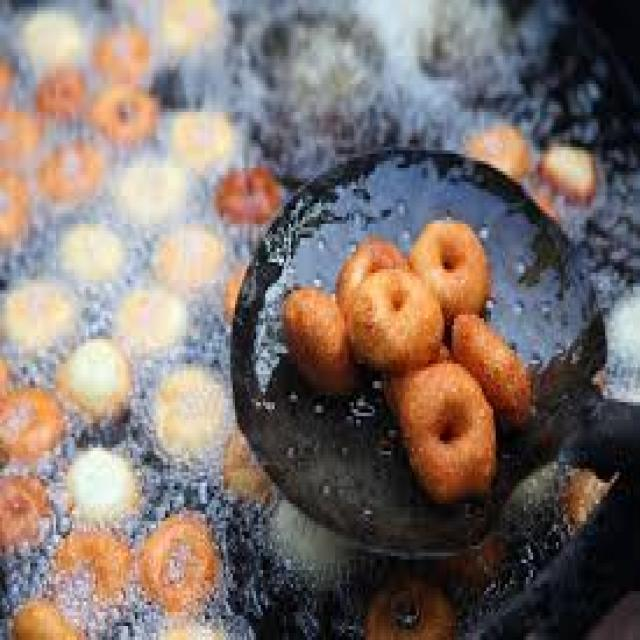MEDU VADA: (407, 362, 496, 502), (455, 305, 536, 430), (355, 268, 445, 365), (405, 216, 487, 317), (335, 241, 415, 321), (286, 291, 342, 371)
